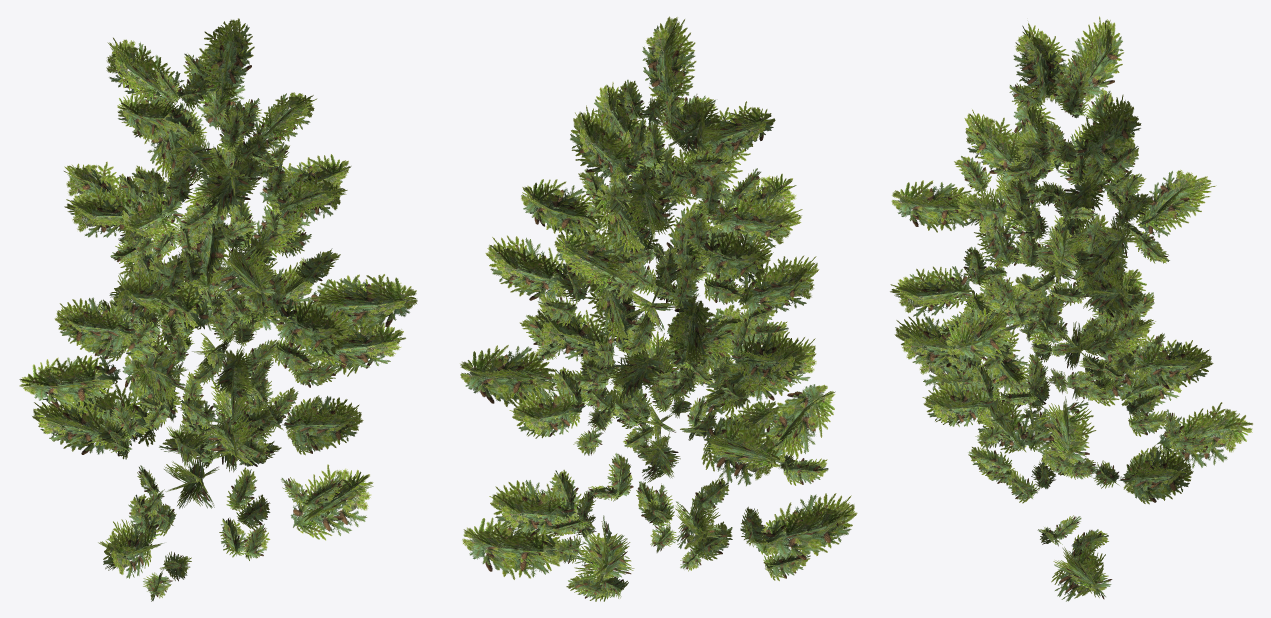
The model's file is PineLeaves_01.fbx.
3 renders of one model, left to right at view 1: azimuth 30°, elevation 25°; view 2: azimuth 150°, elevation 25°; view 3: azimuth 270°, elevation 25°, orthographic. The views are drawn at different scales.
Parts seen in each view (by area): view 1: PineLeaves_01; view 2: PineLeaves_01; view 3: PineLeaves_01.
Part boxes in pixels (x1,y1,x2,y2): PineLeaves_01: [19, 18, 417, 601]; PineLeaves_01: [460, 16, 857, 601]; PineLeaves_01: [890, 16, 1252, 601].
Size of the model in its own units: 246 by 379 by 238.
1 material, 1 textured.
